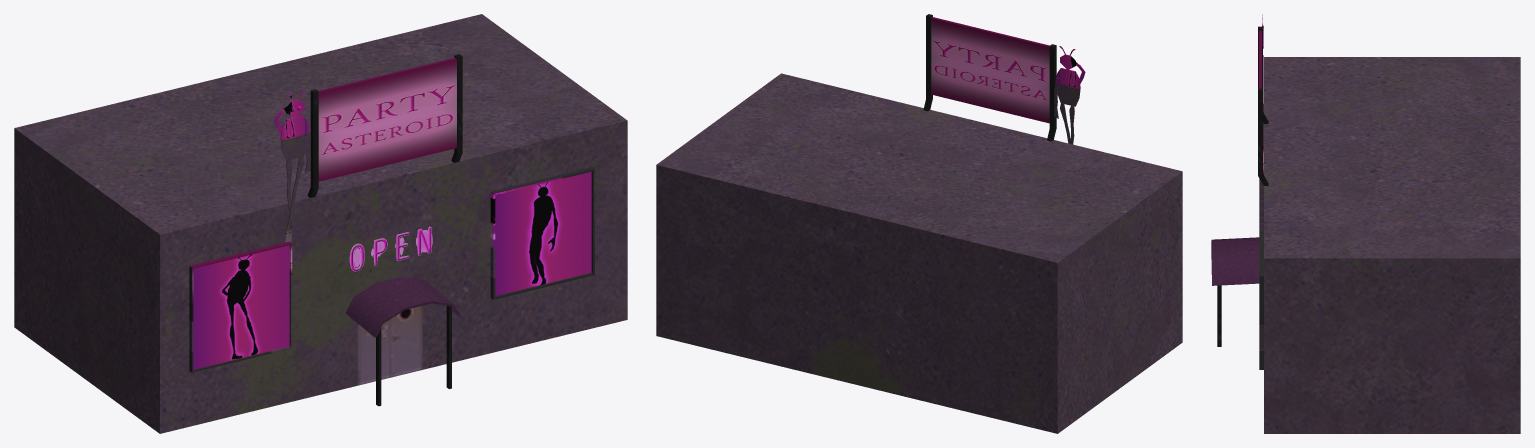
Rendered from club.fbx.
The picture shows the model from 3 angles, left to right: view 1: azimuth 30°, elevation 25°; view 2: azimuth 150°, elevation 25°; view 3: azimuth 270°, elevation 25°; orthographic projection. The views are drawn at different scales.
Parts seen in each view (by area): view 1: Building, Frames, alien; view 2: Building, alien; view 3: Building, Frames.
Boxes of the visible parts, bbox=[...] form: Building: bbox=[14, 14, 627, 433]; Frames: bbox=[189, 167, 594, 372]; alien: bbox=[274, 90, 310, 242]; Building: bbox=[656, 14, 1182, 433]; alien: bbox=[1054, 46, 1085, 144]; Building: bbox=[1211, 26, 1520, 433]; Frames: bbox=[1259, 104, 1263, 369].
Size of the model in its own units: 32.41 by 20.54 by 21.05.
